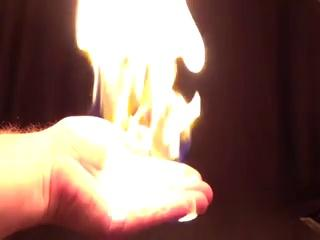Fire: (71, 1, 202, 220)
